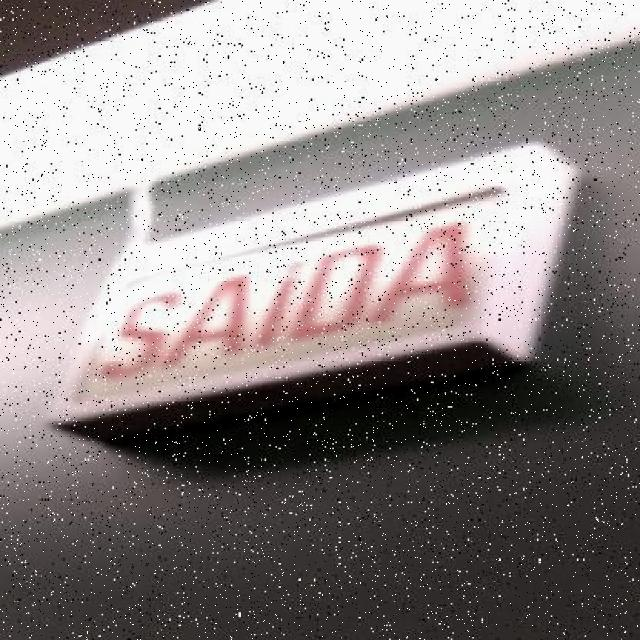emergency_exit: (57, 141, 577, 432)
